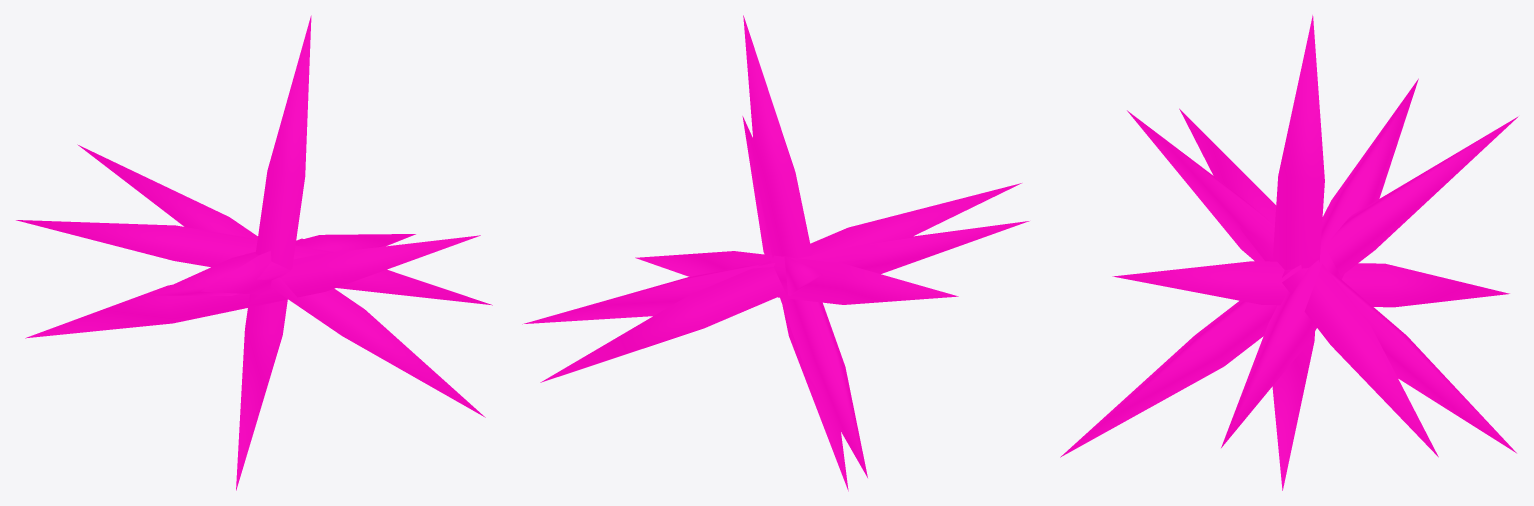
File: PinkSpark.glb
3 views of the same model, side by side, from view 1: azimuth 30°, elevation 25°; view 2: azimuth 150°, elevation 25°; view 3: azimuth 270°, elevation 25° (orthographic). The views are drawn at different scales.
Parts seen in each view (by area): view 1: Spark; view 2: Spark; view 3: Spark.
Boxes of the visible parts, box(x1,y1,x2,y2) form: Spark: box(16, 15, 492, 490); Spark: box(522, 15, 1029, 491); Spark: box(1060, 15, 1518, 490).
Size of the model in its own units: 0.2118 by 0.22 by 0.1735.
